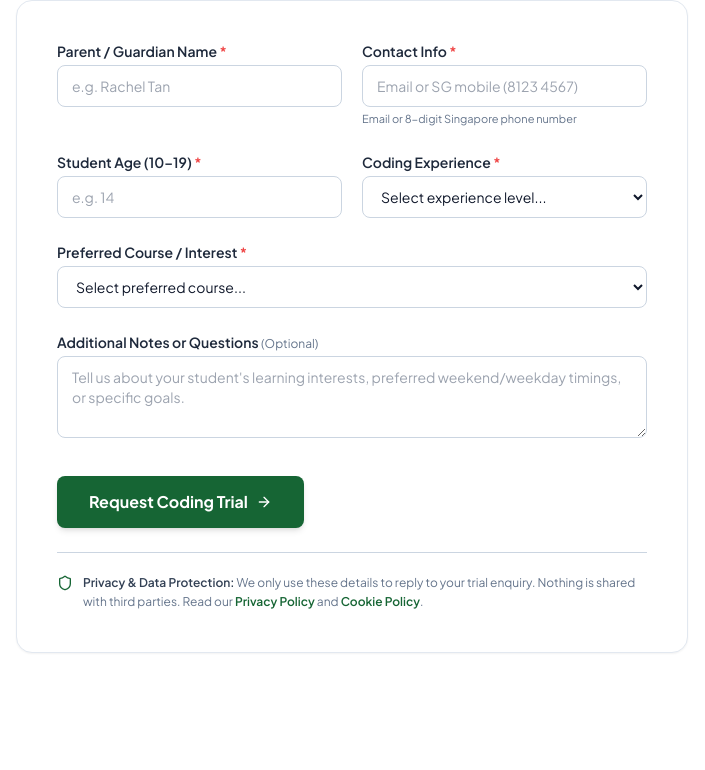
TrialEnquiryForm Component & Accessibility Tests › never presents a false success state when backend returns BACKEND_NOT_CONFIGURED (NEG-05, AC #8)
The width and height of the screenshot is (705, 770).
# Fill valid form
Type "Jane Tan" into the field labelled "Parent / Guardian Name *" at point(200, 86), box [57,65,342,107]
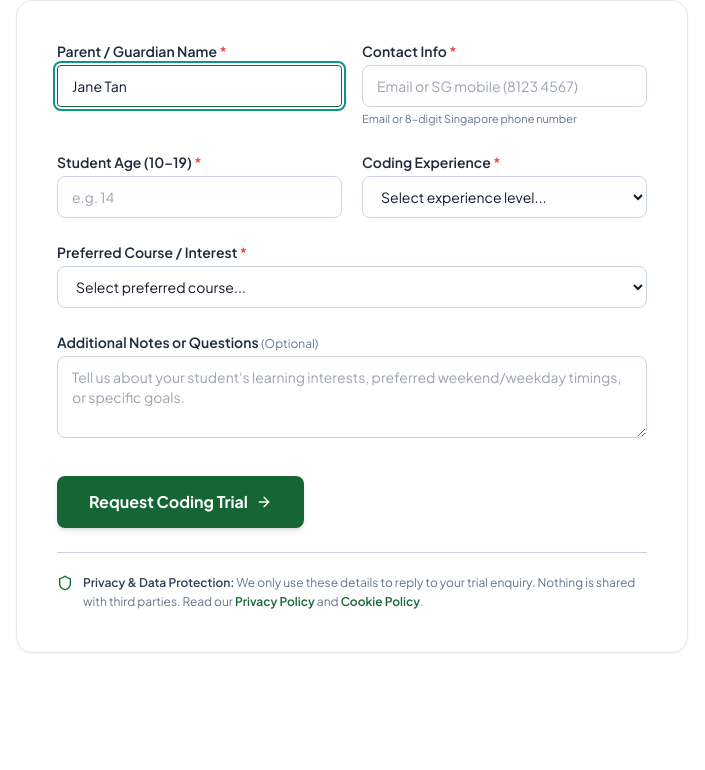
Type "91234567" into the field labelled "Contact Info *" at point(504, 86), box [362,65,647,107]
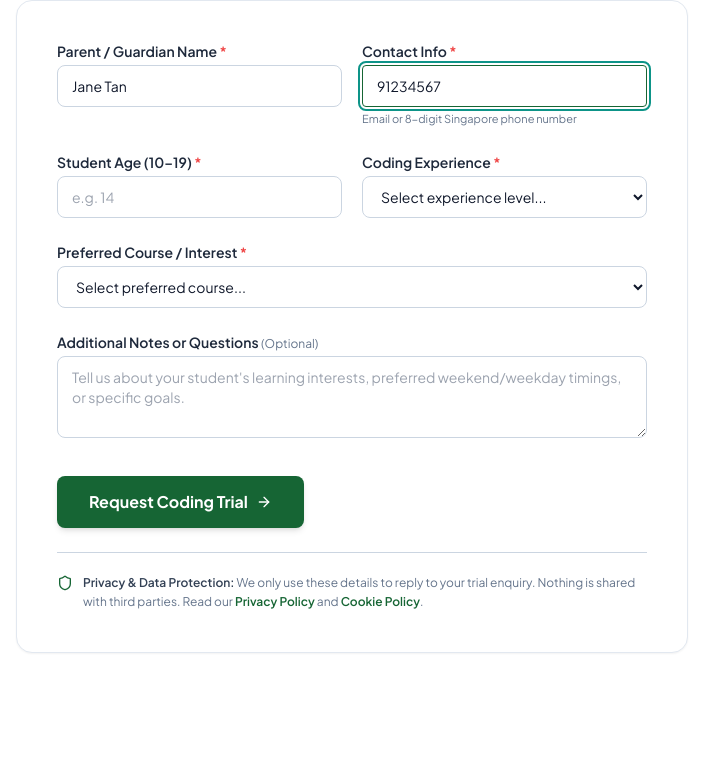
Type "14" into the number field labelled "Student Age (10–19) *" at point(200, 196), box [57,176,342,218]
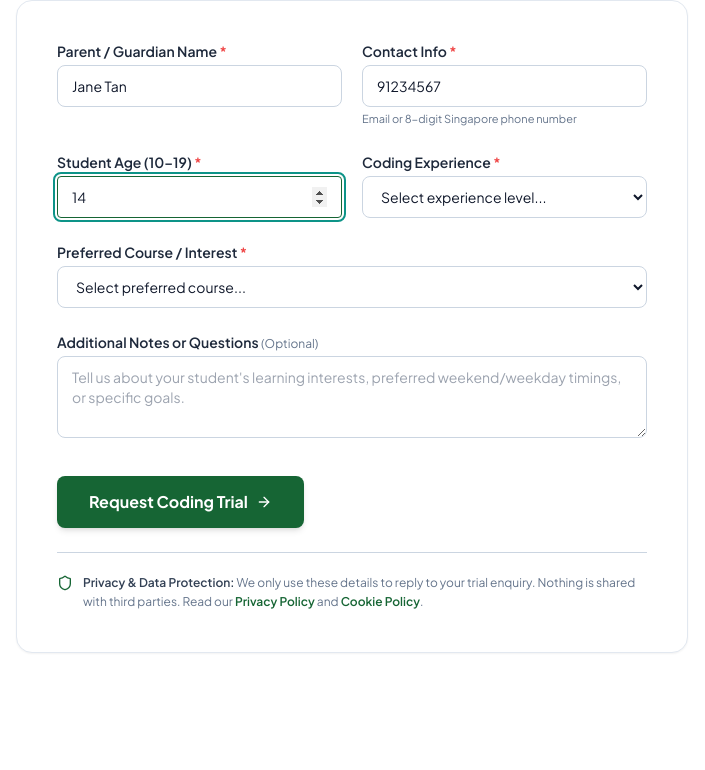
Select "Complete Beginner (Never coded before)" in the dropdown labelled "Coding Experience *" at point(504, 196), box [362,176,647,218]
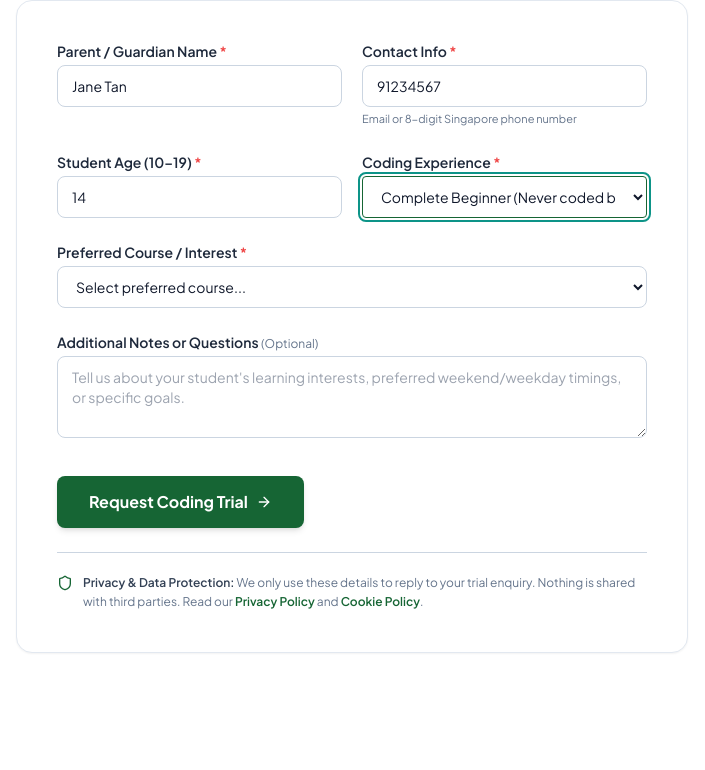
Select "Beginner Python" in the dropdown labelled "Preferred Course / Interest *" at point(352, 286), box [57,266,647,308]
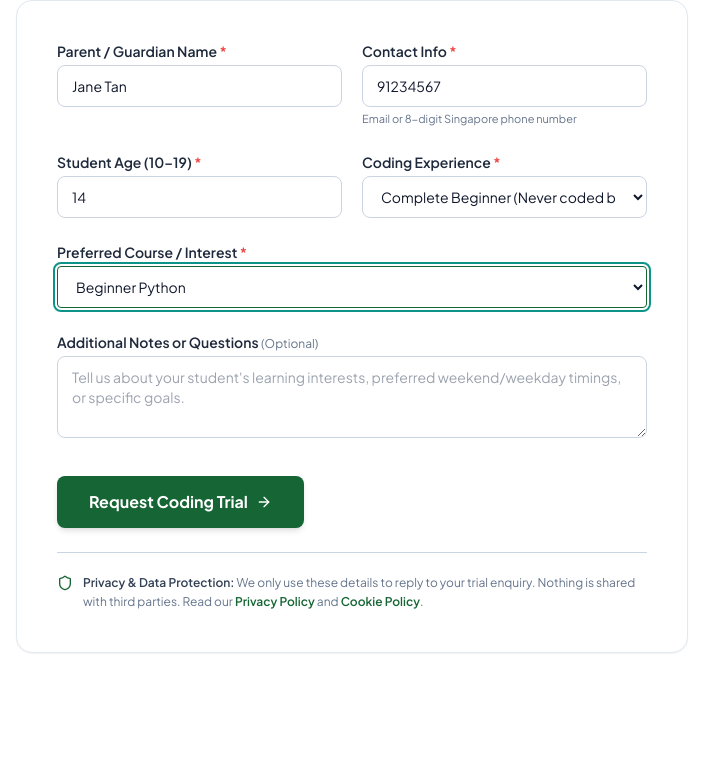
Click the button "Request Coding Trial" at point(180, 502), box [57,476,304,528]
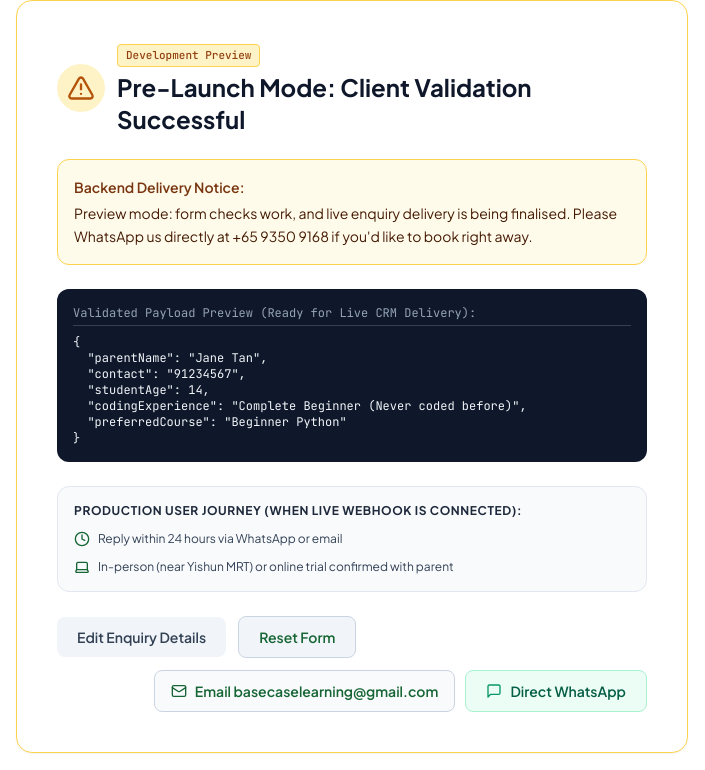
Expected: the heading "Pre-Launch Mode: Client Validation Successful" is shown, [117,72,532,134]
Expected: the text "91234567" is shown, [73,334,527,446]
